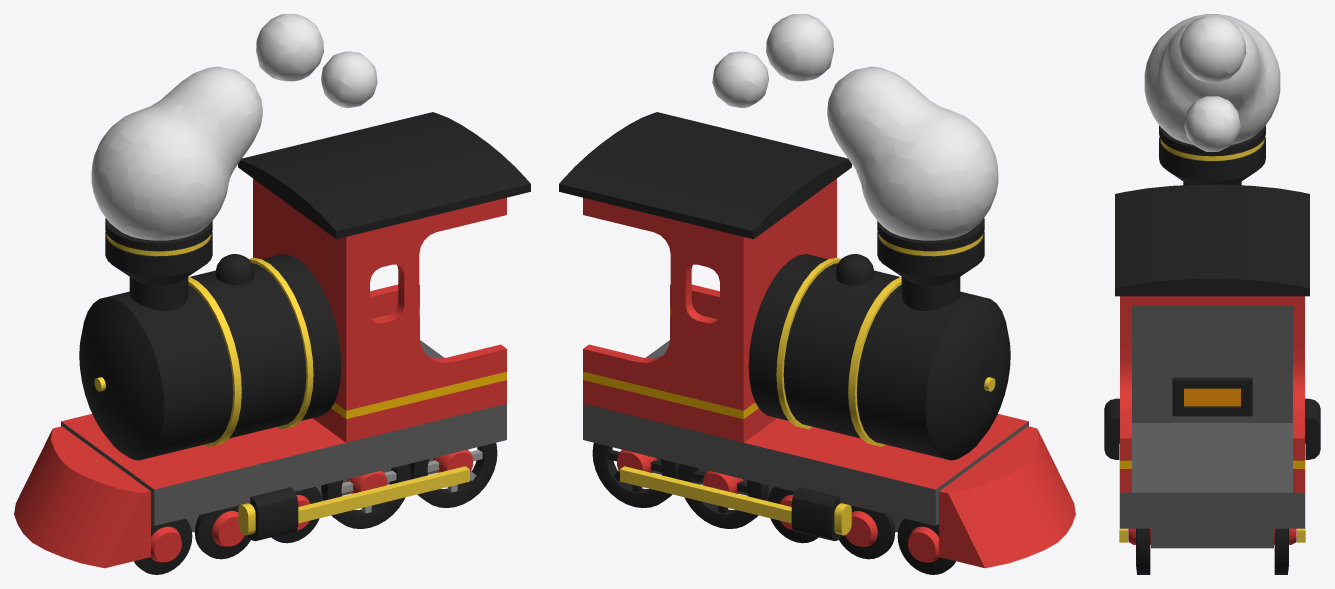
Rendered from locomotive.glb.
3 views of the same model, side by side, from view 1: azimuth 30°, elevation 25°; view 2: azimuth 150°, elevation 25°; view 3: azimuth 270°, elevation 25° (orthographic).
Parts seen in each view (by area): view 1: Cube.554, Mball.005; view 2: Cube.554, Mball.005; view 3: Cube.554, Mball.005.
Part boxes in pixels (x1,y1,x2,y2): Cube.554: (14,112,530,574); Mball.005: (91,14,377,240); Cube.554: (559,112,1075,574); Mball.005: (712,14,998,240); Cube.554: (1104,125,1320,574); Mball.005: (1144,14,1280,151).
Size of the model in its own units: 2.21 by 2.31 by 0.9262.
1 material, 1 textured.
